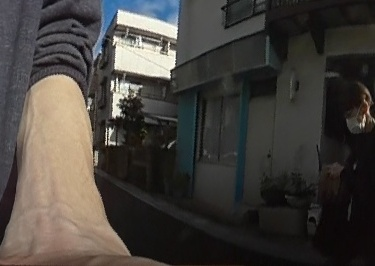person: (323, 77, 375, 264)
